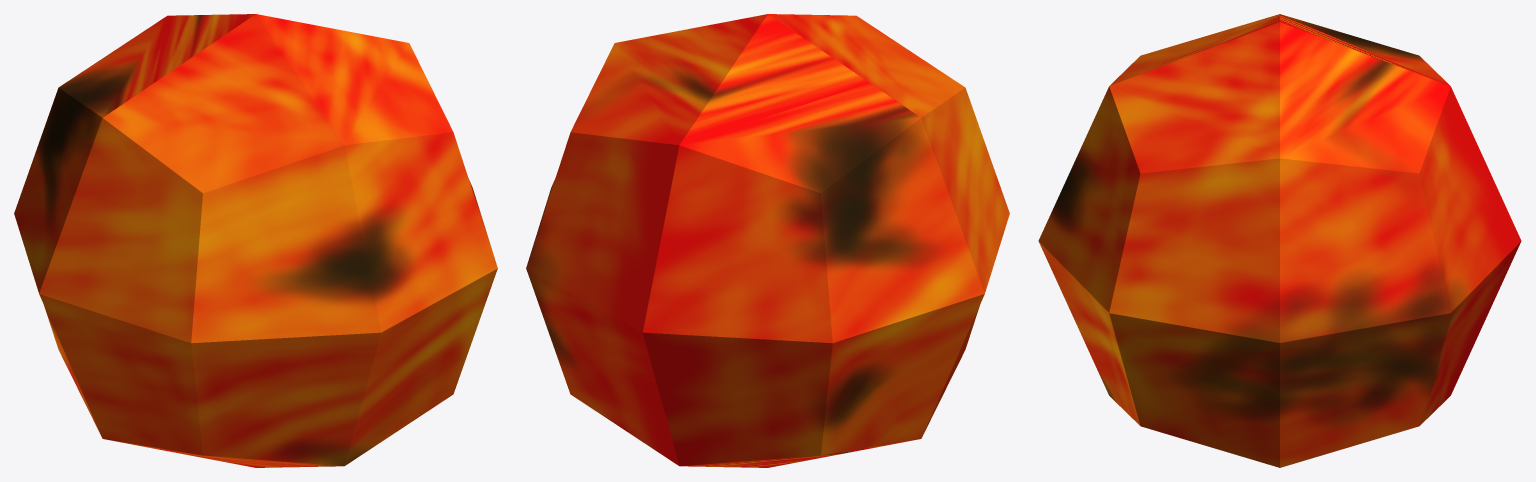
Rendered from LavaSphere.fbx.
The picture shows the model from 3 angles, left to right: view 1: azimuth 30°, elevation 25°; view 2: azimuth 150°, elevation 25°; view 3: azimuth 270°, elevation 25°; orthographic projection. The views are drawn at different scales.
Parts seen in each view (by area): view 1: pPlatonic1; view 2: pPlatonic1; view 3: pPlatonic1.
Boxes of the visible parts, left/top/right/bottom form: pPlatonic1: left=14, top=14, right=497, bottom=467; pPlatonic1: left=526, top=14, right=1009, bottom=467; pPlatonic1: left=1038, top=14, right=1521, bottom=467.
Bounding box in the file's own units: 2 × 2 × 2.
1 material, 1 textured.
